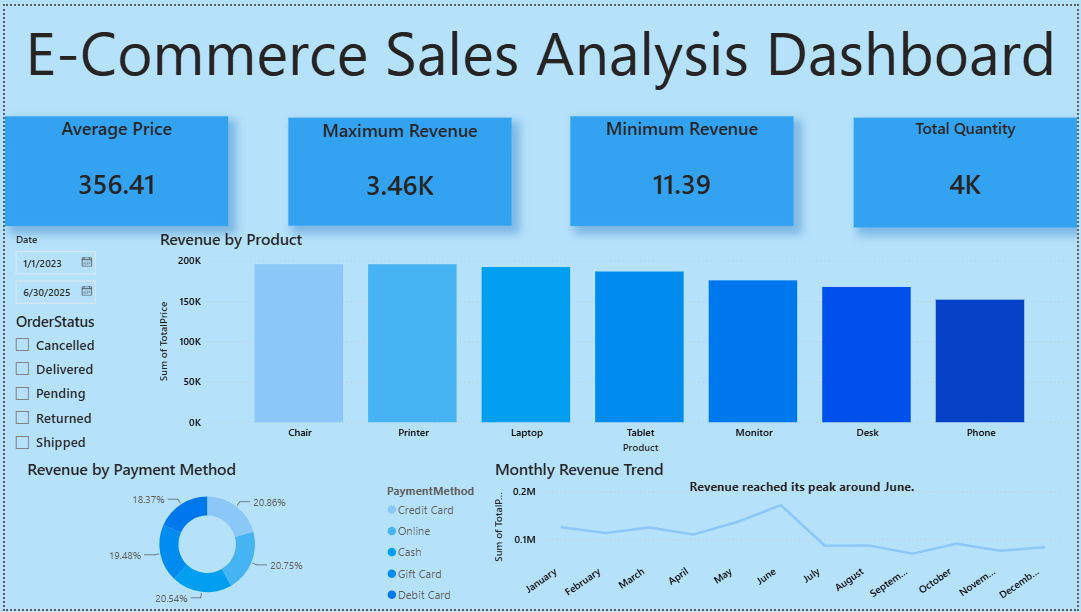

What the dashboard file says about the page in this screenshot:
{"tool":"powerbi","page":{"name":"Page 1","canvas":[1280,720],"ordinal":0},"visuals":[{"type":"cardVisual","title":"Average Price","fields":{"Data":["Avg(Sheet1.UnitPrice)"]},"box":[0,132.4,266.5,130.8],"z":0},{"type":"cardVisual","title":"Minimum Revenue","fields":{"Data":["Min(Sheet1.TotalPrice)"]},"box":[675.3,131.6,266.5,130.8],"z":1000},{"type":"cardVisual","title":"Maximum Revenue","fields":{"Data":["Max(Sheet1.TotalPrice)"]},"box":[337.6,134.1,266.5,129.1],"z":2000},{"type":"textbox","box":[0,433.6,99.3,149],"z":3000},{"type":"columnChart","title":"Revenue by Product","fields":{"Category":["Sheet1.Product"],"Y":["Sum(Sheet1.TotalPrice)"],"Series":["Sheet1.Product"]},"box":[180.4,264.8,1099,274.7],"z":4000},{"type":"lineChart","title":"Monthly Revenue Trend","fields":{"Category":["Sheet1.Date.Variation.Date Hierarchy.Month","Sheet1.Date.Variation.Date Hierarchy.Day"],"Y":["Sum(Sheet1.TotalPrice)"]},"box":[579.9,539.5,686.5,180.9],"z":5000},{"type":"donutChart","title":"Revenue by Payment Method","fields":{"Category":["Sheet1.PaymentMethod"],"Y":["Sum(Sheet1.TotalPrice)"]},"box":[21.5,539.6,559.4,180.4],"z":6000},{"type":"slicer","fields":{"Values":["Sheet1.Date"]},"box":[0,264.8,140.7,119.2],"z":7000},{"type":"slicer","fields":{"Values":["Sheet1.OrderStatus"]},"box":[0,360,140,180],"z":8000},{"type":"cardVisual","title":"Total Quantity","fields":{"Data":["Sum(Sheet1.Quantity)"]},"box":[1012.9,134.1,266.5,130.8],"z":9000},{"type":"textbox","box":[0,0,1279.4,119.2],"z":10000},{"type":"textbox","box":[808.3,558.3,370,43.3],"z":10001}]}

Visuals, with their boxes in screenshot pixels (x1, y1, x2, y2), scaled from the page's 1280x720 canvas onto the 1081x612 screenshot:
"Average Price" cardVisual: left=0, top=113, right=225, bottom=224
"Minimum Revenue" cardVisual: left=570, top=112, right=795, bottom=223
"Maximum Revenue" cardVisual: left=285, top=114, right=510, bottom=224
textbox: left=0, top=369, right=84, bottom=495
"Revenue by Product" columnChart: left=152, top=225, right=1080, bottom=459
"Monthly Revenue Trend" lineChart: left=490, top=459, right=1070, bottom=611
"Revenue by Payment Method" donutChart: left=18, top=459, right=491, bottom=611
slicer - Sheet1.Date: left=0, top=225, right=119, bottom=326
slicer - Sheet1.OrderStatus: left=0, top=306, right=118, bottom=459
"Total Quantity" cardVisual: left=855, top=114, right=1080, bottom=225
textbox: left=0, top=0, right=1080, bottom=101
textbox: left=683, top=475, right=995, bottom=511
